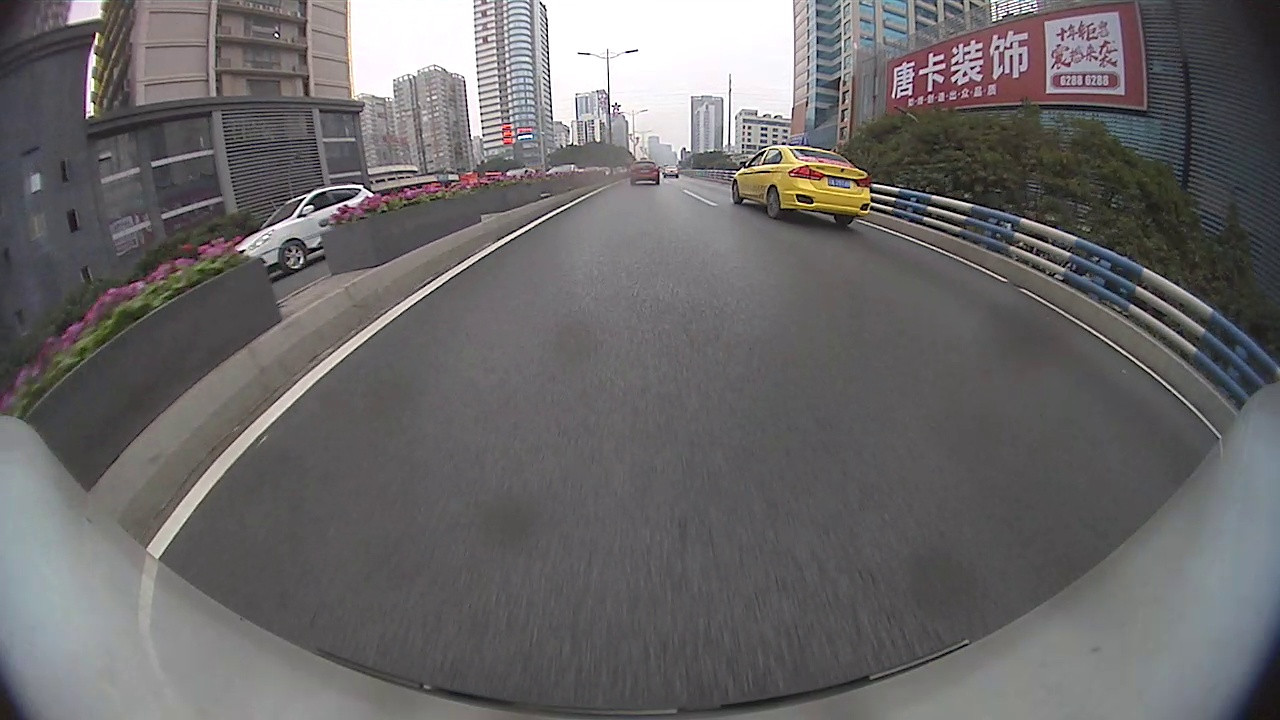car: (228, 179, 387, 278), (729, 132, 875, 229), (629, 159, 661, 186), (663, 163, 680, 179)
front: (278, 240, 309, 274), (730, 181, 740, 207)
rear: (763, 187, 782, 221)
